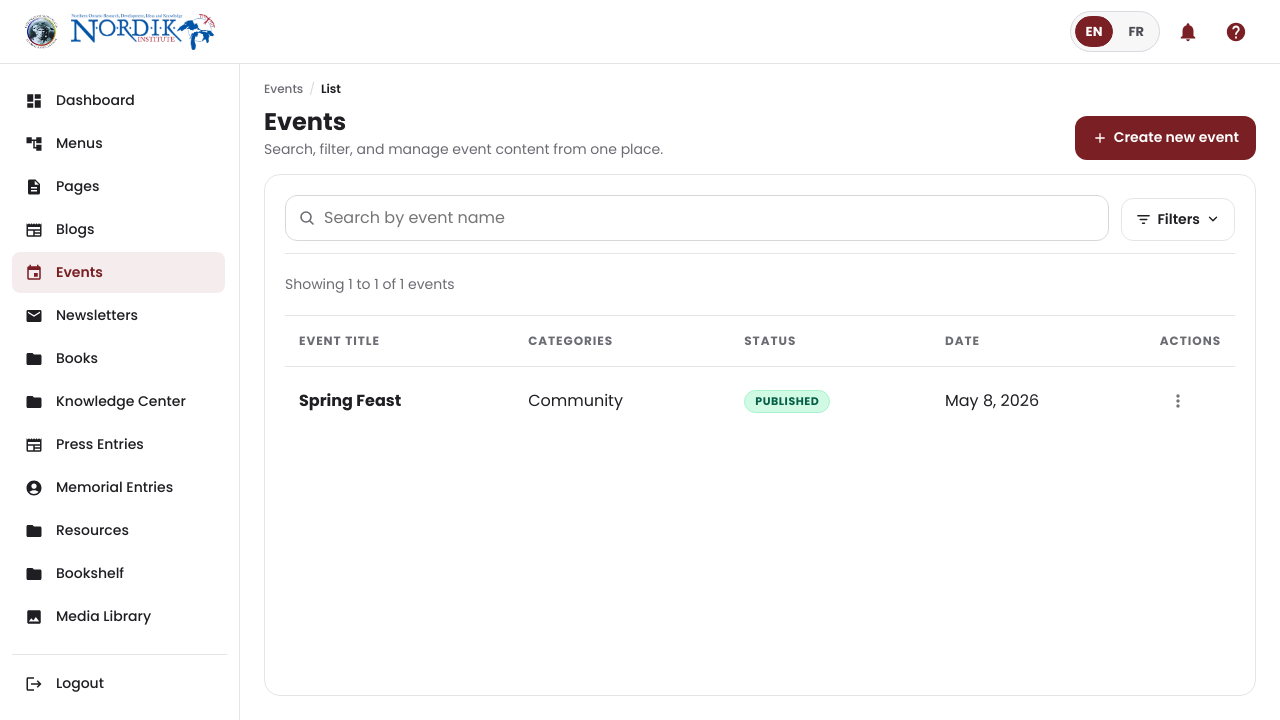
Scenario: EventsListPage › shows a confirmation dialog before deleting an event
What coordinates should you click on to do the following:
click the button named "open event actions"
I would click on:
 (1178, 401)
Its box is [1160,383,1196,419].
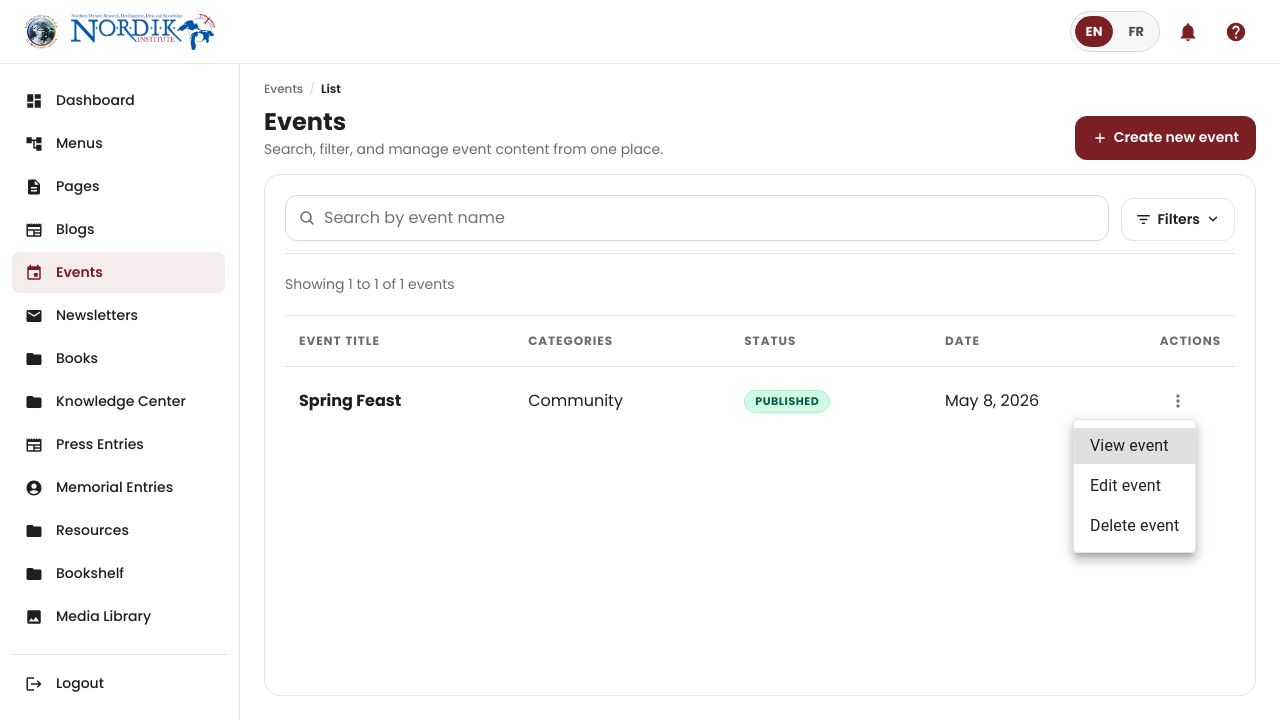
Check: the menu item "View event" is shown, box [1074,428,1195,464]
Check: the menu item "Edit event" is shown, box [1090,476,1161,495]
What coordinates should you click on to do the following:
click the menu item "Delete event"
I would click on:
 (1135, 526)
Its box is [1090,516,1179,535].
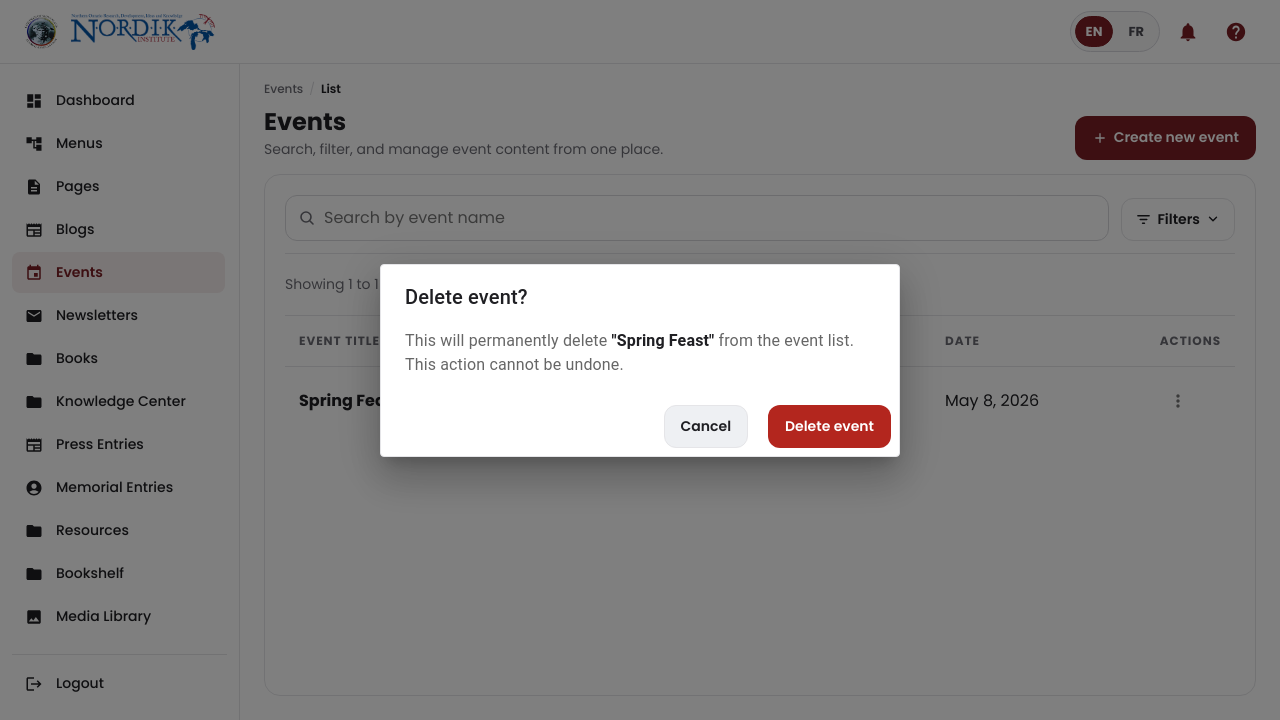
Check: the heading "Delete event?" is shown, box [405,284,528,308]
Check: the text "\"Spring Feast\"" is shown, box [612,330,714,350]
Check: the button "Cancel" is shown, box [664,404,748,448]
